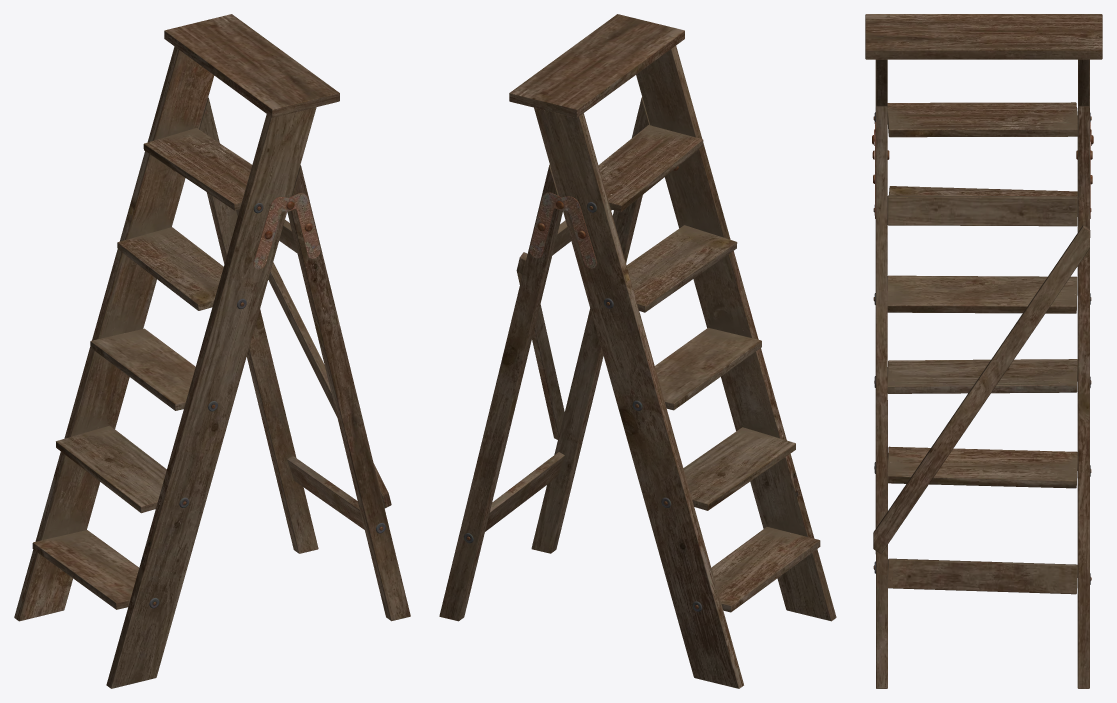
Rendered from wooden_ladder_02.glb.
The picture shows the model from 3 angles, left to right: view 1: azimuth 30°, elevation 25°; view 2: azimuth 150°, elevation 25°; view 3: azimuth 270°, elevation 25°; orthographic projection. The views are drawn at different scales.
Visible parts, largest first — view 1: wooden_ladder_02; view 2: wooden_ladder_02; view 3: wooden_ladder_02.
Part boxes in pixels (bbox=[...]): wooden_ladder_02: bbox=[14, 14, 410, 688]; wooden_ladder_02: bbox=[439, 14, 836, 688]; wooden_ladder_02: bbox=[865, 14, 1102, 688].
Bounding box in the file's own units: 0.9895 × 1.72 × 0.6181.
1 material, 1 textured.
